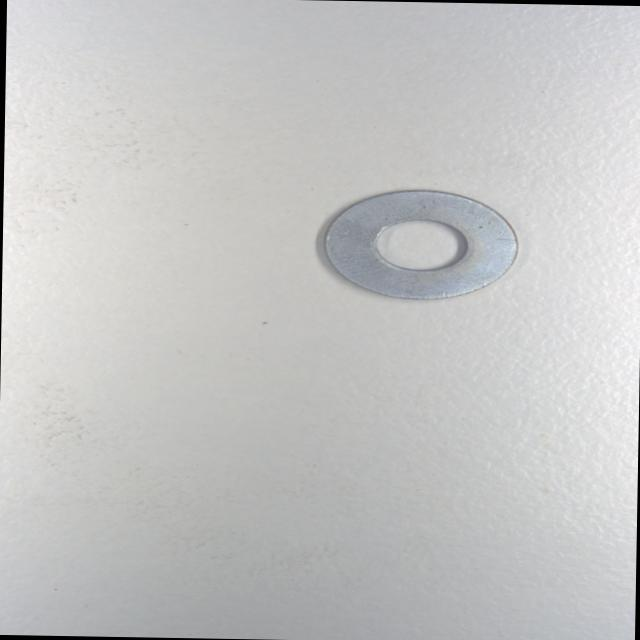washer: (318, 186, 520, 303)
